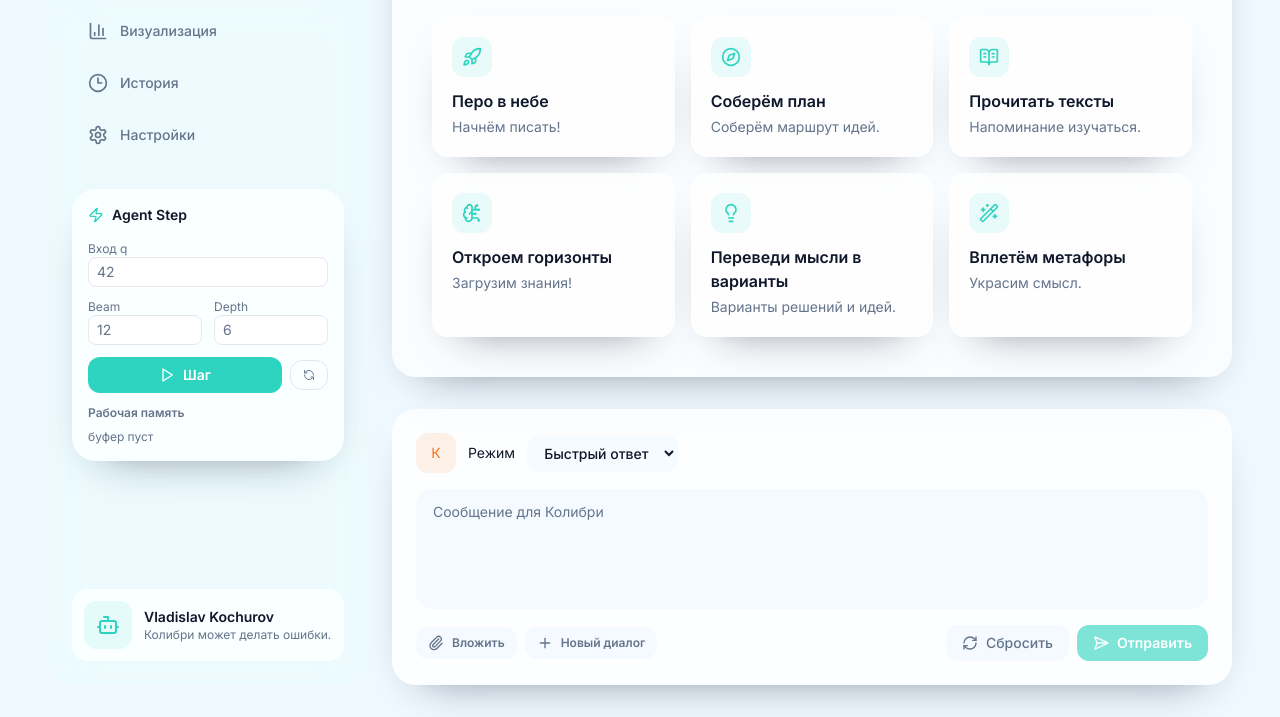
Test: App contextual retrieval › falls back gracefully when contextual search fails
The width and height of the screenshot is (1280, 717).
(page scrolled)
In the text box with placeholder "Сообщение для Колибри": (812, 549) left=416, top=489, right=1208, bottom=609, type "Где хранится знание?"
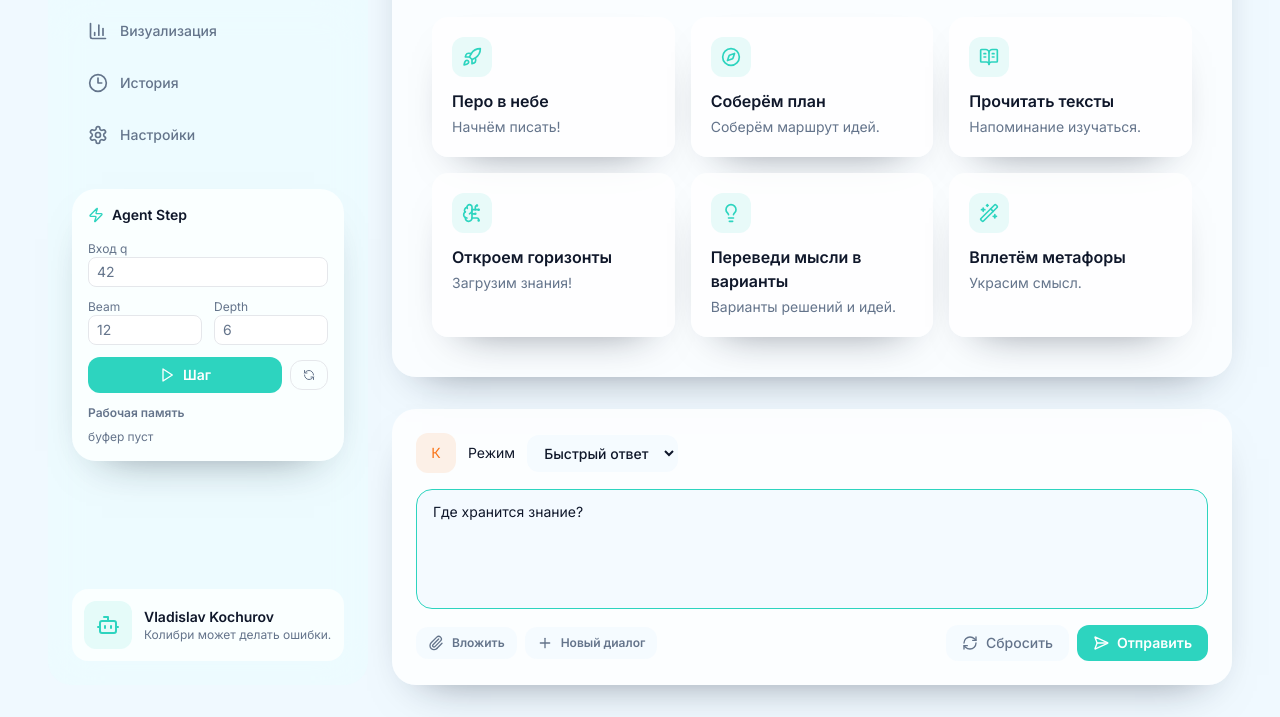
Expected: the button "Отправить" is enabled
Click the button "Отправить": click(1142, 643) left=1077, top=625, right=1208, bottom=661
(page scrolled)
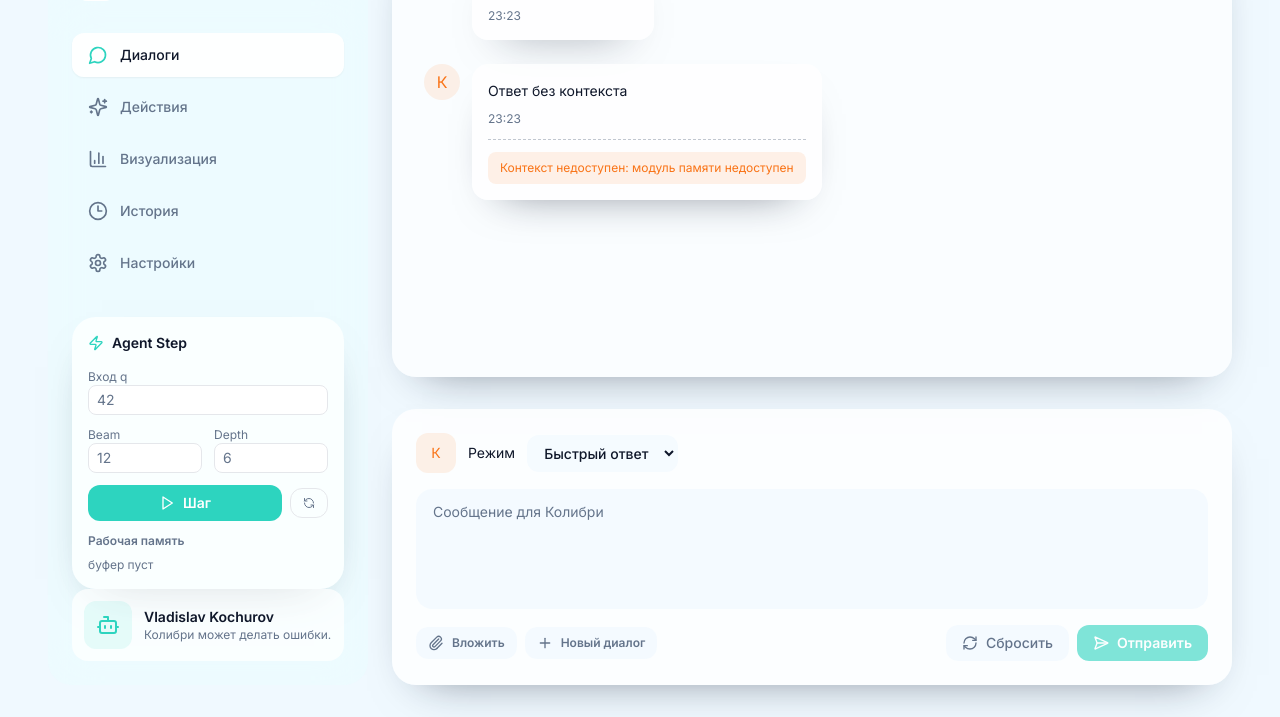
Expected: the text "Ответ без контекста" is shown, left=488, top=82, right=627, bottom=99
Expected: the text "Контекст недоступен: модуль памяти недоступен" is shown, left=488, top=152, right=806, bottom=184
